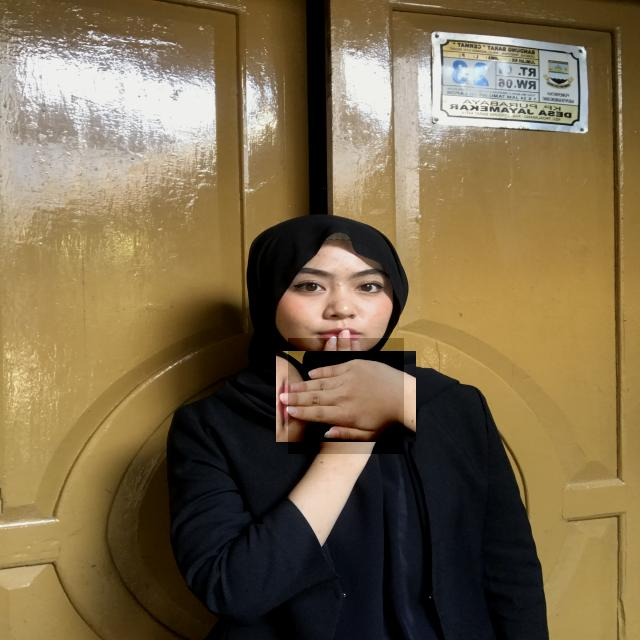ganteng: (288, 338, 404, 454)
